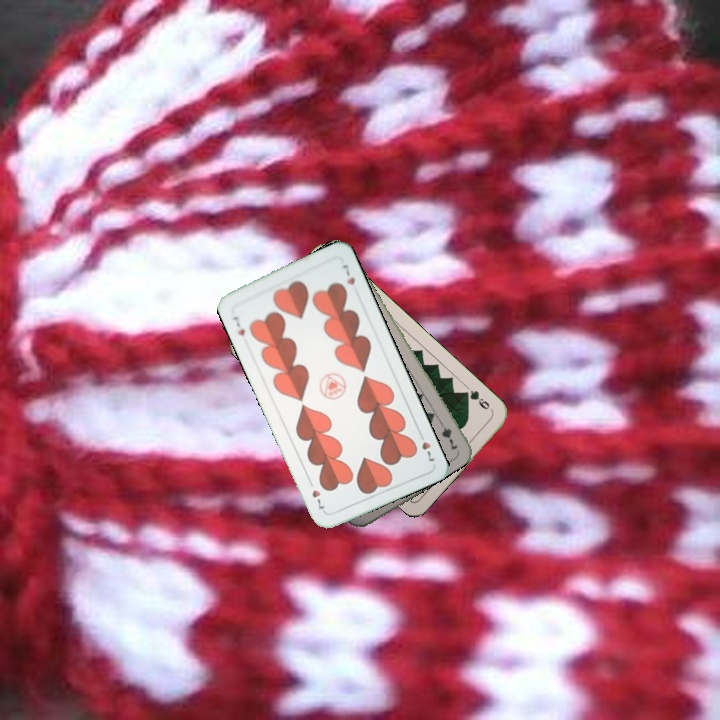G7: (434, 414, 460, 451)
G9: (459, 386, 495, 415)
H7: (414, 427, 438, 465), (229, 312, 248, 338)
